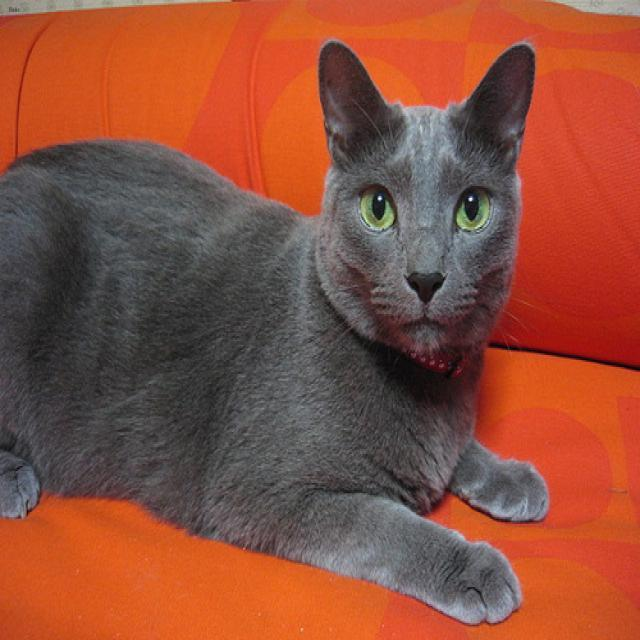Russian_Blue: (319, 36, 540, 363)
